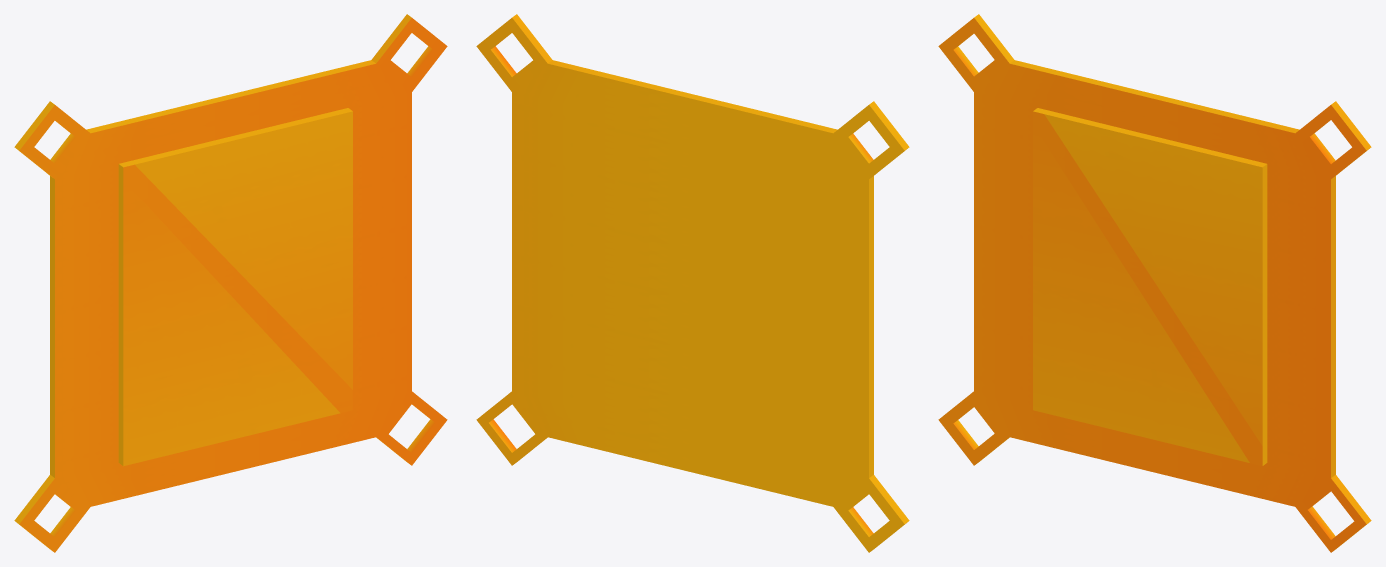
The model's file is plates.glb.
3 renders of one model, left to right at view 1: azimuth 30°, elevation 25°; view 2: azimuth 150°, elevation 25°; view 3: azimuth 330°, elevation 25°, orthographic.
Parts seen in each view (by area): view 1: Plate; view 2: Plate; view 3: Plate.
Part boxes in pixels (x1,y1,x2,y2): Plate: (14,14,447,552); Plate: (476,14,909,552); Plate: (938,14,1371,552).
Bounding box in the file's own units: 0.24 × 0.24 × 0.00944.
Materials: 1 (1 with a texture image).
